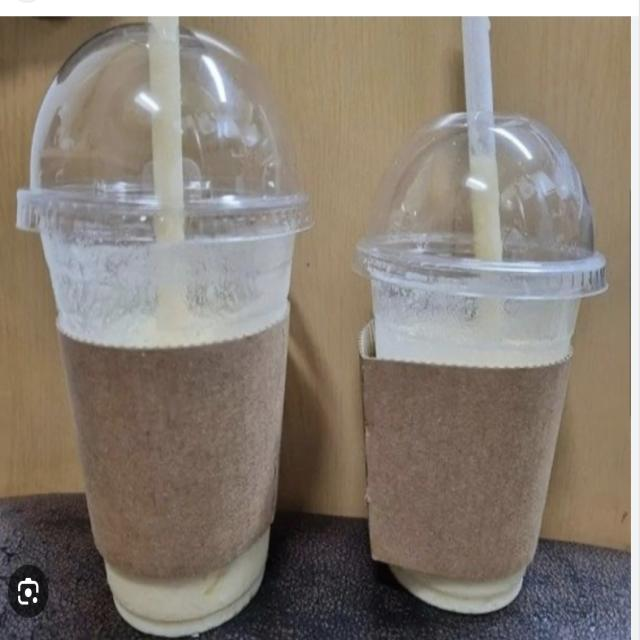recyclable: (334, 25, 615, 632), (45, 30, 310, 640)
